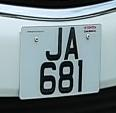1: (75, 59, 87, 95)
6: (34, 60, 59, 98)
8: (56, 60, 76, 96)
A: (63, 24, 80, 63)
J: (43, 26, 64, 63)
